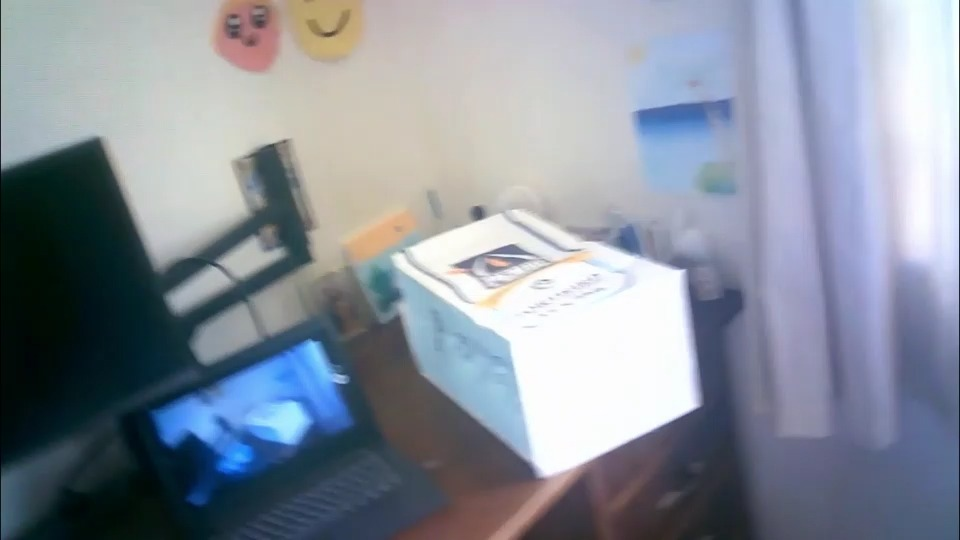wheat_flour_blue_label: (390, 209, 707, 480)
